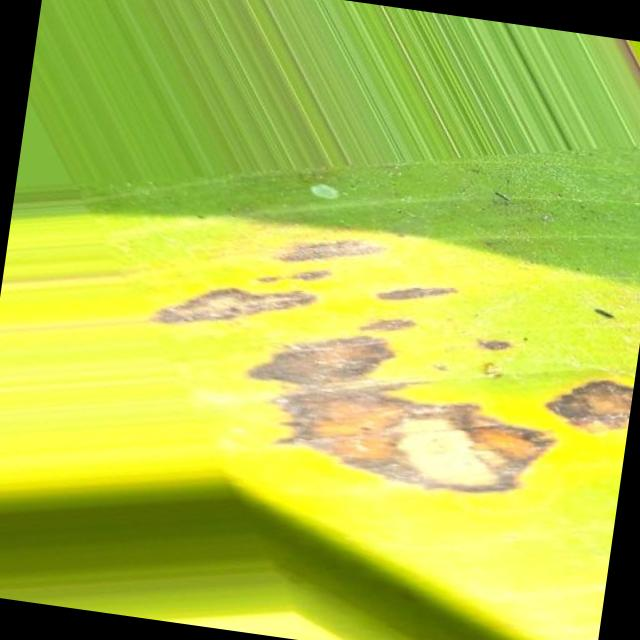Banana_Black_Sigatoka: (152, 182, 640, 538)
